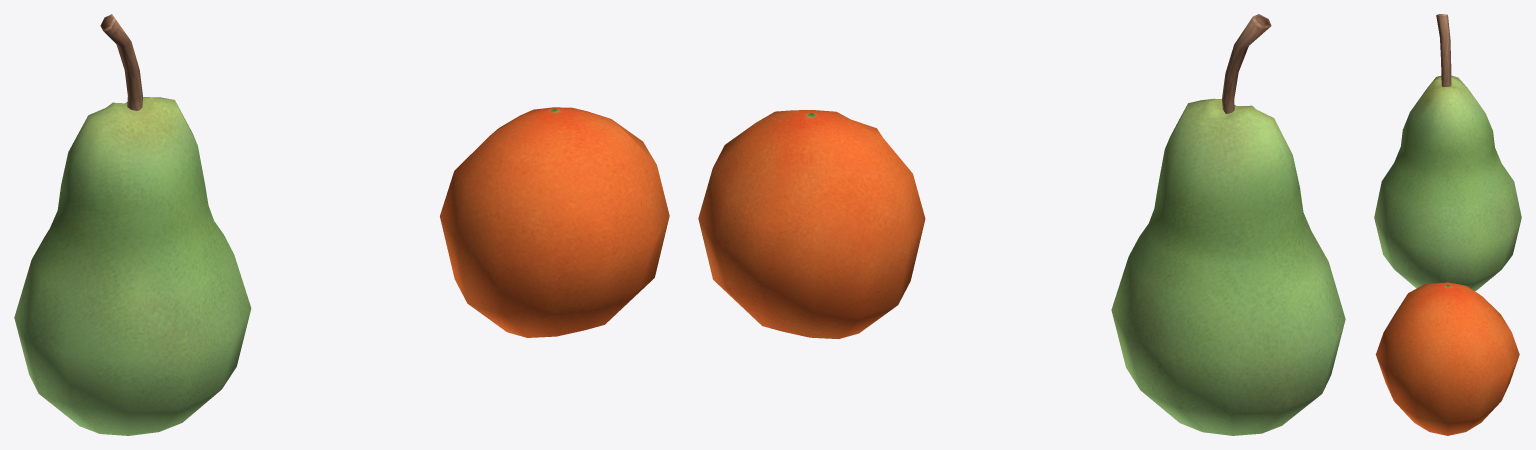
3 views of the same model, side by side, from view 1: azimuth 30°, elevation 25°; view 2: azimuth 150°, elevation 25°; view 3: azimuth 270°, elevation 25° (orthographic). The views are drawn at different scales.
Parts seen in each view (by area): view 1: Pear, Orange; view 2: Pear, Orange; view 3: Pear, Orange.
Boxes of the visible parts, bbox=[...] form: Pear: bbox=[14, 14, 251, 435]; Orange: bbox=[440, 107, 669, 337]; Pear: bbox=[1111, 14, 1345, 435]; Orange: bbox=[698, 110, 925, 339]; Pear: bbox=[1374, 14, 1521, 290]; Orange: bbox=[1375, 282, 1519, 435].
Size of the model in its own units: 153 by 98.8 by 48.52.
